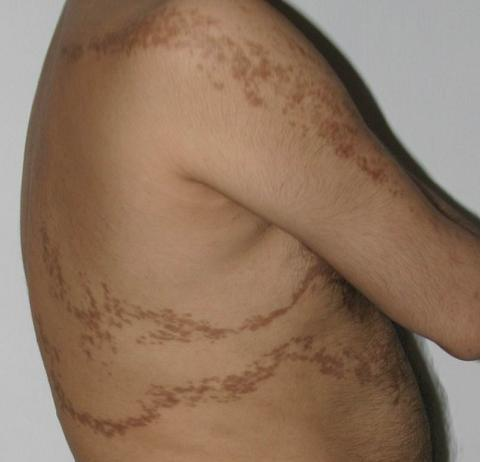linear lichen planus: (116, 267, 302, 350), (65, 389, 173, 452)
